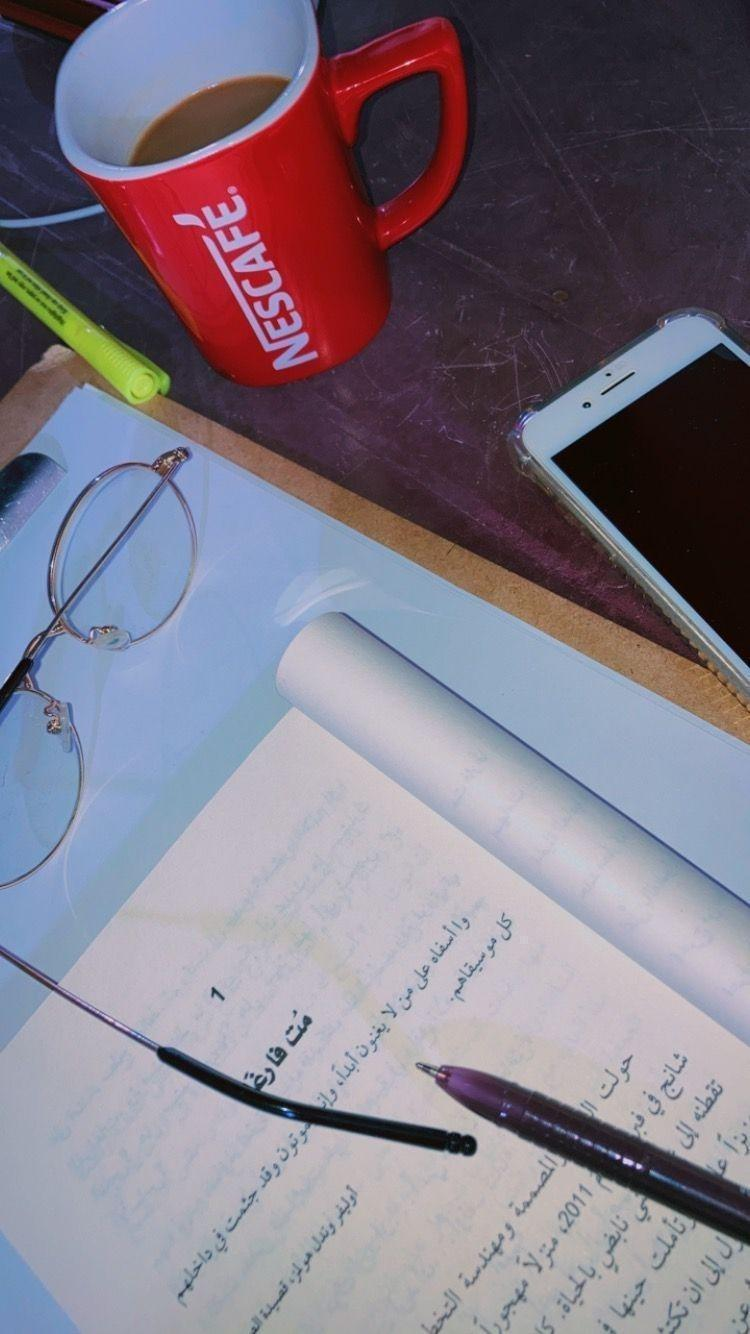cup-handle: (51, 0, 471, 388)
